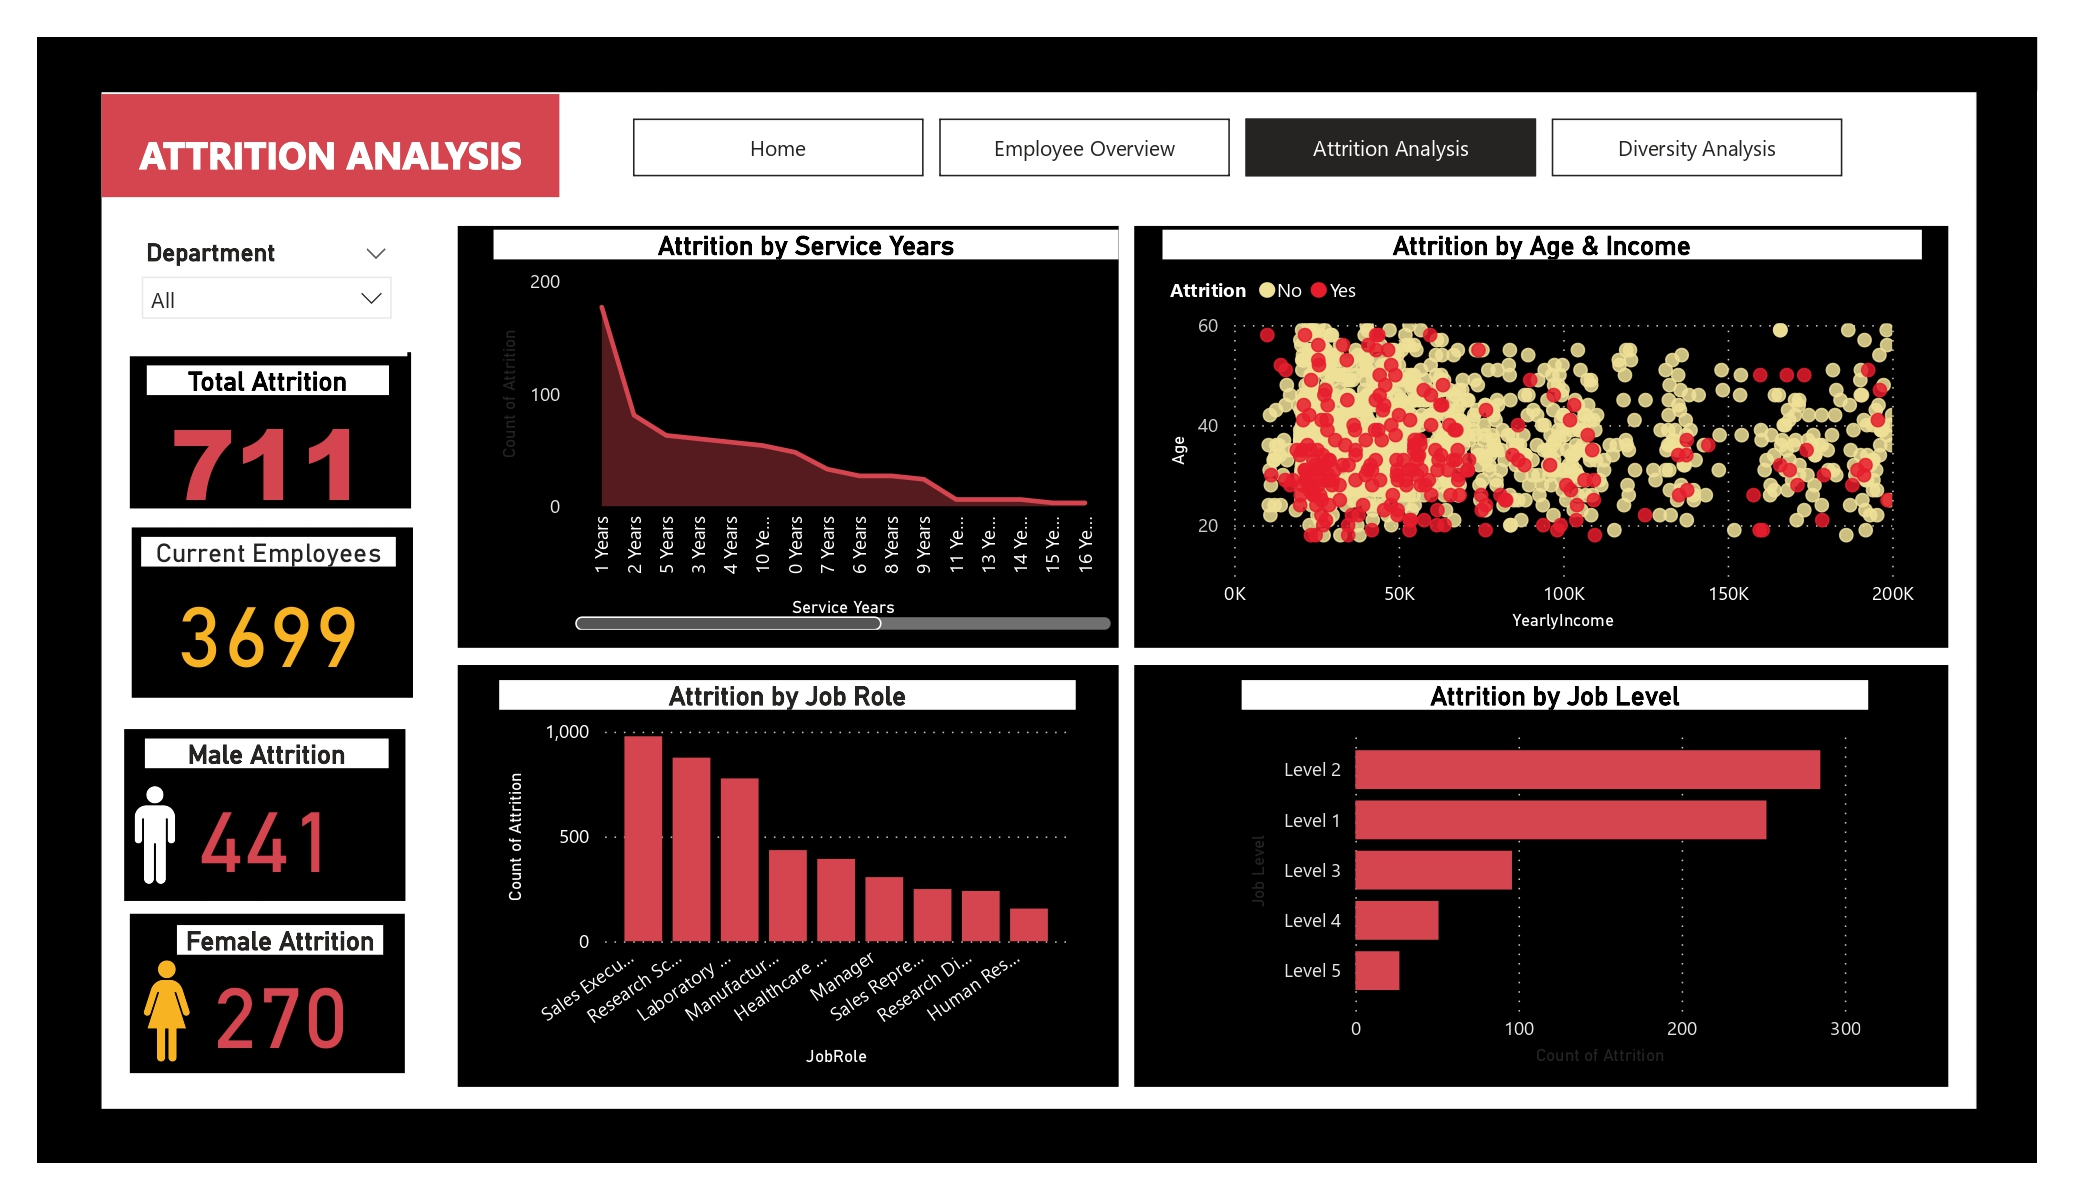

The dashboard page shown, as its layout file describes it:
{"tool":"powerbi","page":{"name":"Attrition Analysis","canvas":[1280,720],"ordinal":2},"visuals":[{"type":"shape","box":[58.5,202,179.7,100.3],"z":0,"group":"g1"},{"type":"shape","box":[59.9,313.4,179.7,108.6],"z":0,"group":"g2"},{"type":"shape","box":[268.8,401.1,423.4,270.2],"z":0},{"type":"shape","box":[58.5,561.3,175.8,101.7],"z":0,"group":"g3"},{"type":"card","title":"Total Attrition","fields":{"Values":["All_Measures.Total Attrition"]},"box":[69.6,210.4,154.6,98.9],"z":1000,"group":"g1"},{"type":"card","title":"Current Employees","fields":{"Values":["All_Measures.Total Current Emp"]},"box":[65.6,319.8,163,96.1],"z":1000,"group":"g2"},{"type":"shape","box":[55.7,442.9,179.7,110],"z":1000},{"type":"card","title":"Female Attrition","fields":{"Values":["All_Measures.Female Attrition"]},"box":[89,568.2,132.3,86.4],"z":1000,"group":"g3"},{"type":"shape","box":[702,401.1,520.9,270.2],"z":2000},{"type":"card","title":"Male Attrition","fields":{"Values":["All_Measures.Male Attrition"]},"box":[68.2,448.5,156,100.3],"z":3000},{"type":"shape","box":[702,121.2,520.9,270.2],"z":4000},{"type":"shape","box":[268.8,121.2,423.4,270.2],"z":5000},{"type":"textbox","box":[40.9,35.8,293.2,66.5],"z":6000},{"type":"scatterChart","title":"Attrition by Age & Income","fields":{"X":["Hr_data.YearlyIncome"],"Y":["Hr_data.Age"],"Series":["Hr_data.Attrition"]},"box":[720.4,122.4,485.5,260.6],"z":7000},{"type":"barChart","title":"Attrition by Job Level","fields":{"Category":["Hr_data.Job Level"],"Y":["CountNonNull(Hr_data.Attrition)"]},"box":[770.2,410.9,401.1,250.7],"z":8000},{"type":"areaChart","title":"Attrition by Service Years","fields":{"Category":["Hr_data.Service Years"],"Y":["CountNonNull(Hr_data.Attrition)"]},"box":[291.9,122.4,400.1,260.6],"z":9000},{"type":"columnChart","title":"Attrition by Job Role","fields":{"Category":["Hr_data.JobRole"],"Y":["CountNonNull(Hr_data.Attrition)"]},"box":[295.5,411.3,369,252.1],"z":10000},{"type":"pageNavigator","box":[381.6,51.5,777.2,37.6],"z":11000},{"type":"image","box":[0,472.2,153.2,75.2],"z":12000},{"type":"group","id":"g1","title":"Group 1","box":[58.5,202,179.7,107.2],"z":13000},{"type":"group","id":"g2","title":"Group 2","box":[59.9,313.4,179.7,108.6],"z":14000},{"type":"group","id":"g3","title":"Group 4","box":[58.5,561.3,175.5,101.7],"z":15000},{"type":"image","box":[13.9,583.6,140.7,79.4],"z":16000},{"type":"slicer","fields":{"Values":["Hr_data.Department"]},"box":[57.1,122.6,179.7,80.8],"z":17000}]}

Visuals, with their boxes on the page's 1280x720 design canvas (x1, y1, x2, y2). These are canvas units, not pixel positions in the 2075x1200 screenshot, which may show the page scaled, cropped or inside an application window:
shape: BBox(58, 202, 238, 302)
shape: BBox(60, 313, 240, 422)
shape: BBox(269, 401, 692, 671)
shape: BBox(58, 561, 234, 663)
"Total Attrition" card: BBox(70, 210, 224, 309)
"Current Employees" card: BBox(66, 320, 229, 416)
shape: BBox(56, 443, 235, 553)
"Female Attrition" card: BBox(89, 568, 221, 655)
shape: BBox(702, 401, 1223, 671)
"Male Attrition" card: BBox(68, 448, 224, 549)
shape: BBox(702, 121, 1223, 391)
shape: BBox(269, 121, 692, 391)
textbox: BBox(41, 36, 334, 102)
"Attrition by Age & Income" scatterChart: BBox(720, 122, 1206, 383)
"Attrition by Job Level" barChart: BBox(770, 411, 1171, 662)
"Attrition by Service Years" areaChart: BBox(292, 122, 692, 383)
"Attrition by Job Role" columnChart: BBox(296, 411, 664, 663)
pageNavigator: BBox(382, 52, 1159, 89)
image: BBox(0, 472, 153, 547)
"Group 1" group: BBox(58, 202, 238, 309)
"Group 2" group: BBox(60, 313, 240, 422)
"Group 4" group: BBox(58, 561, 234, 663)
image: BBox(14, 584, 155, 663)
slicer - Hr_data.Department: BBox(57, 123, 237, 203)
